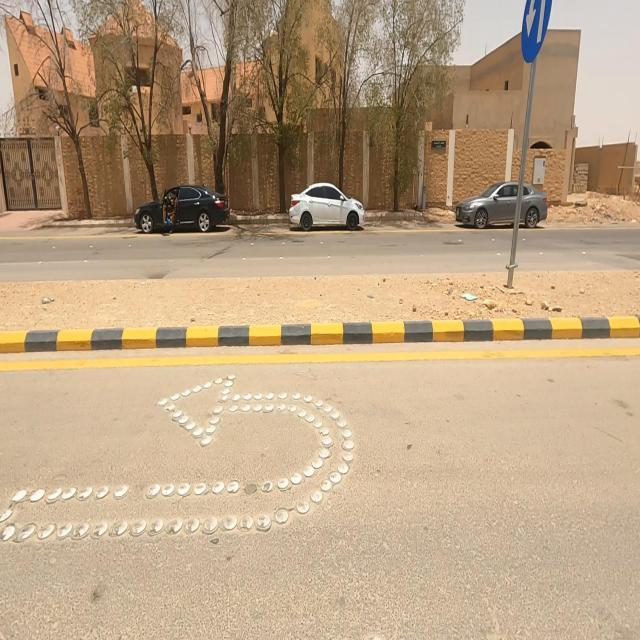debris: (428, 266, 516, 336), (15, 268, 79, 339)
